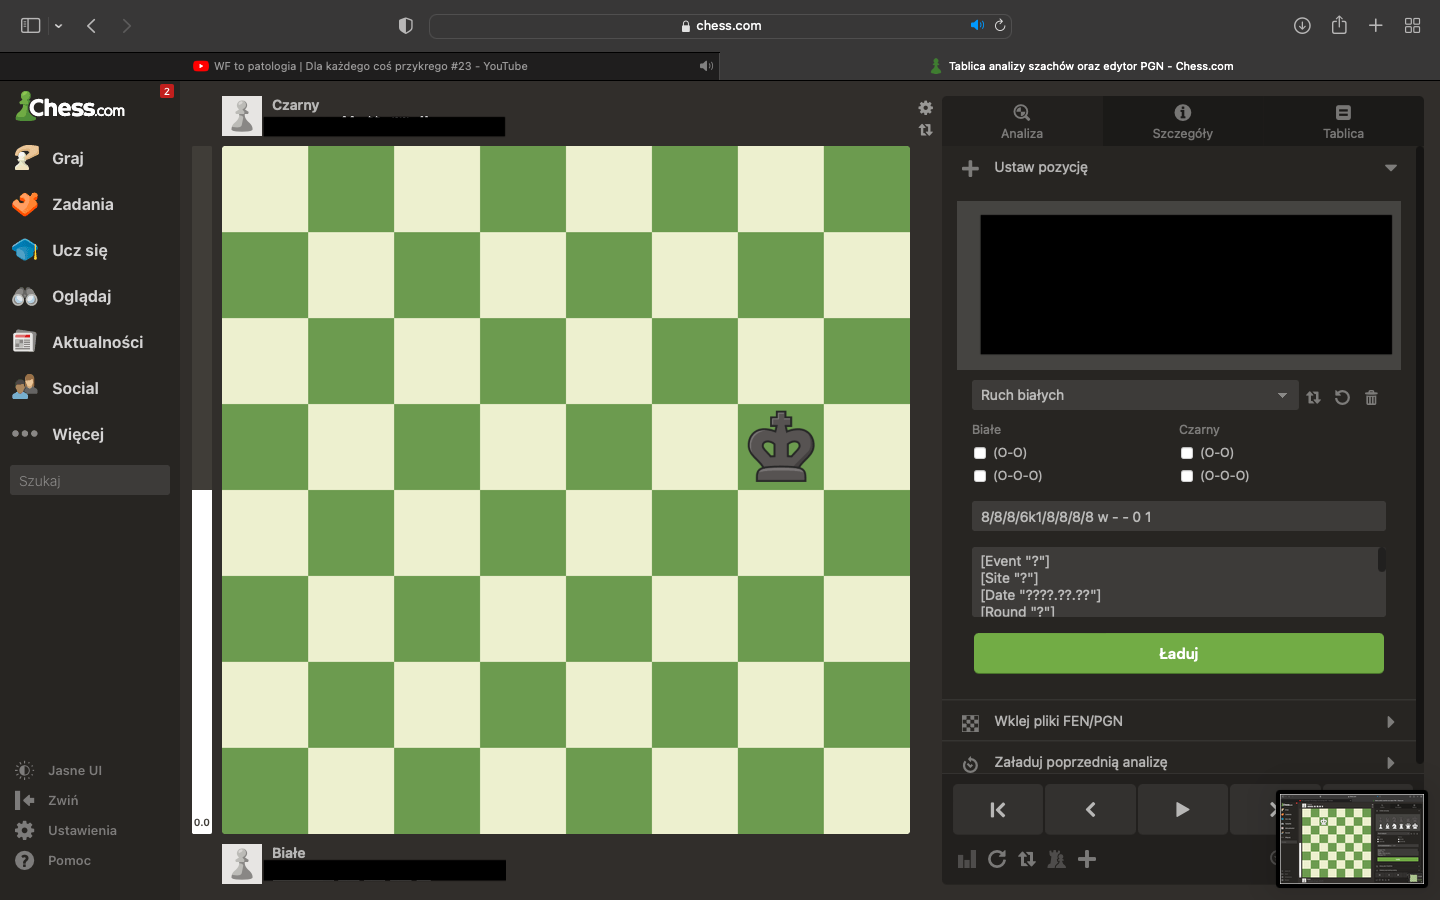black_king: (745, 409, 816, 485)
